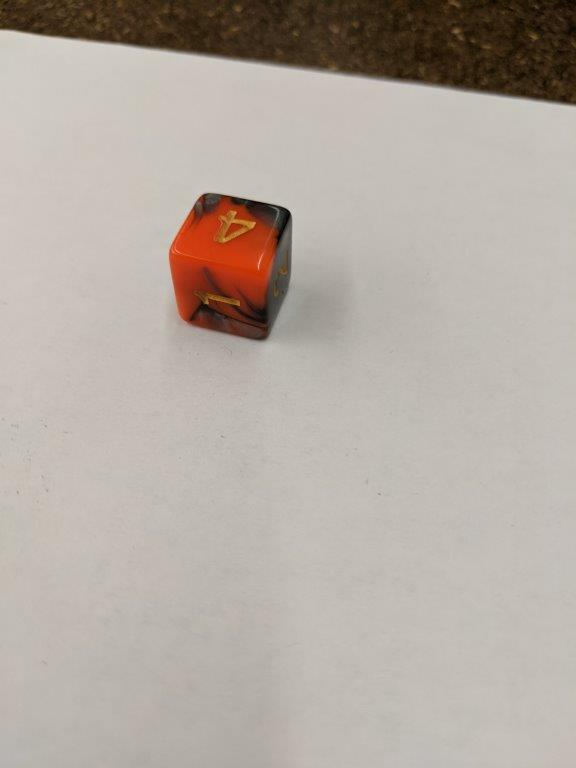d6-4: (165, 191, 293, 346)
